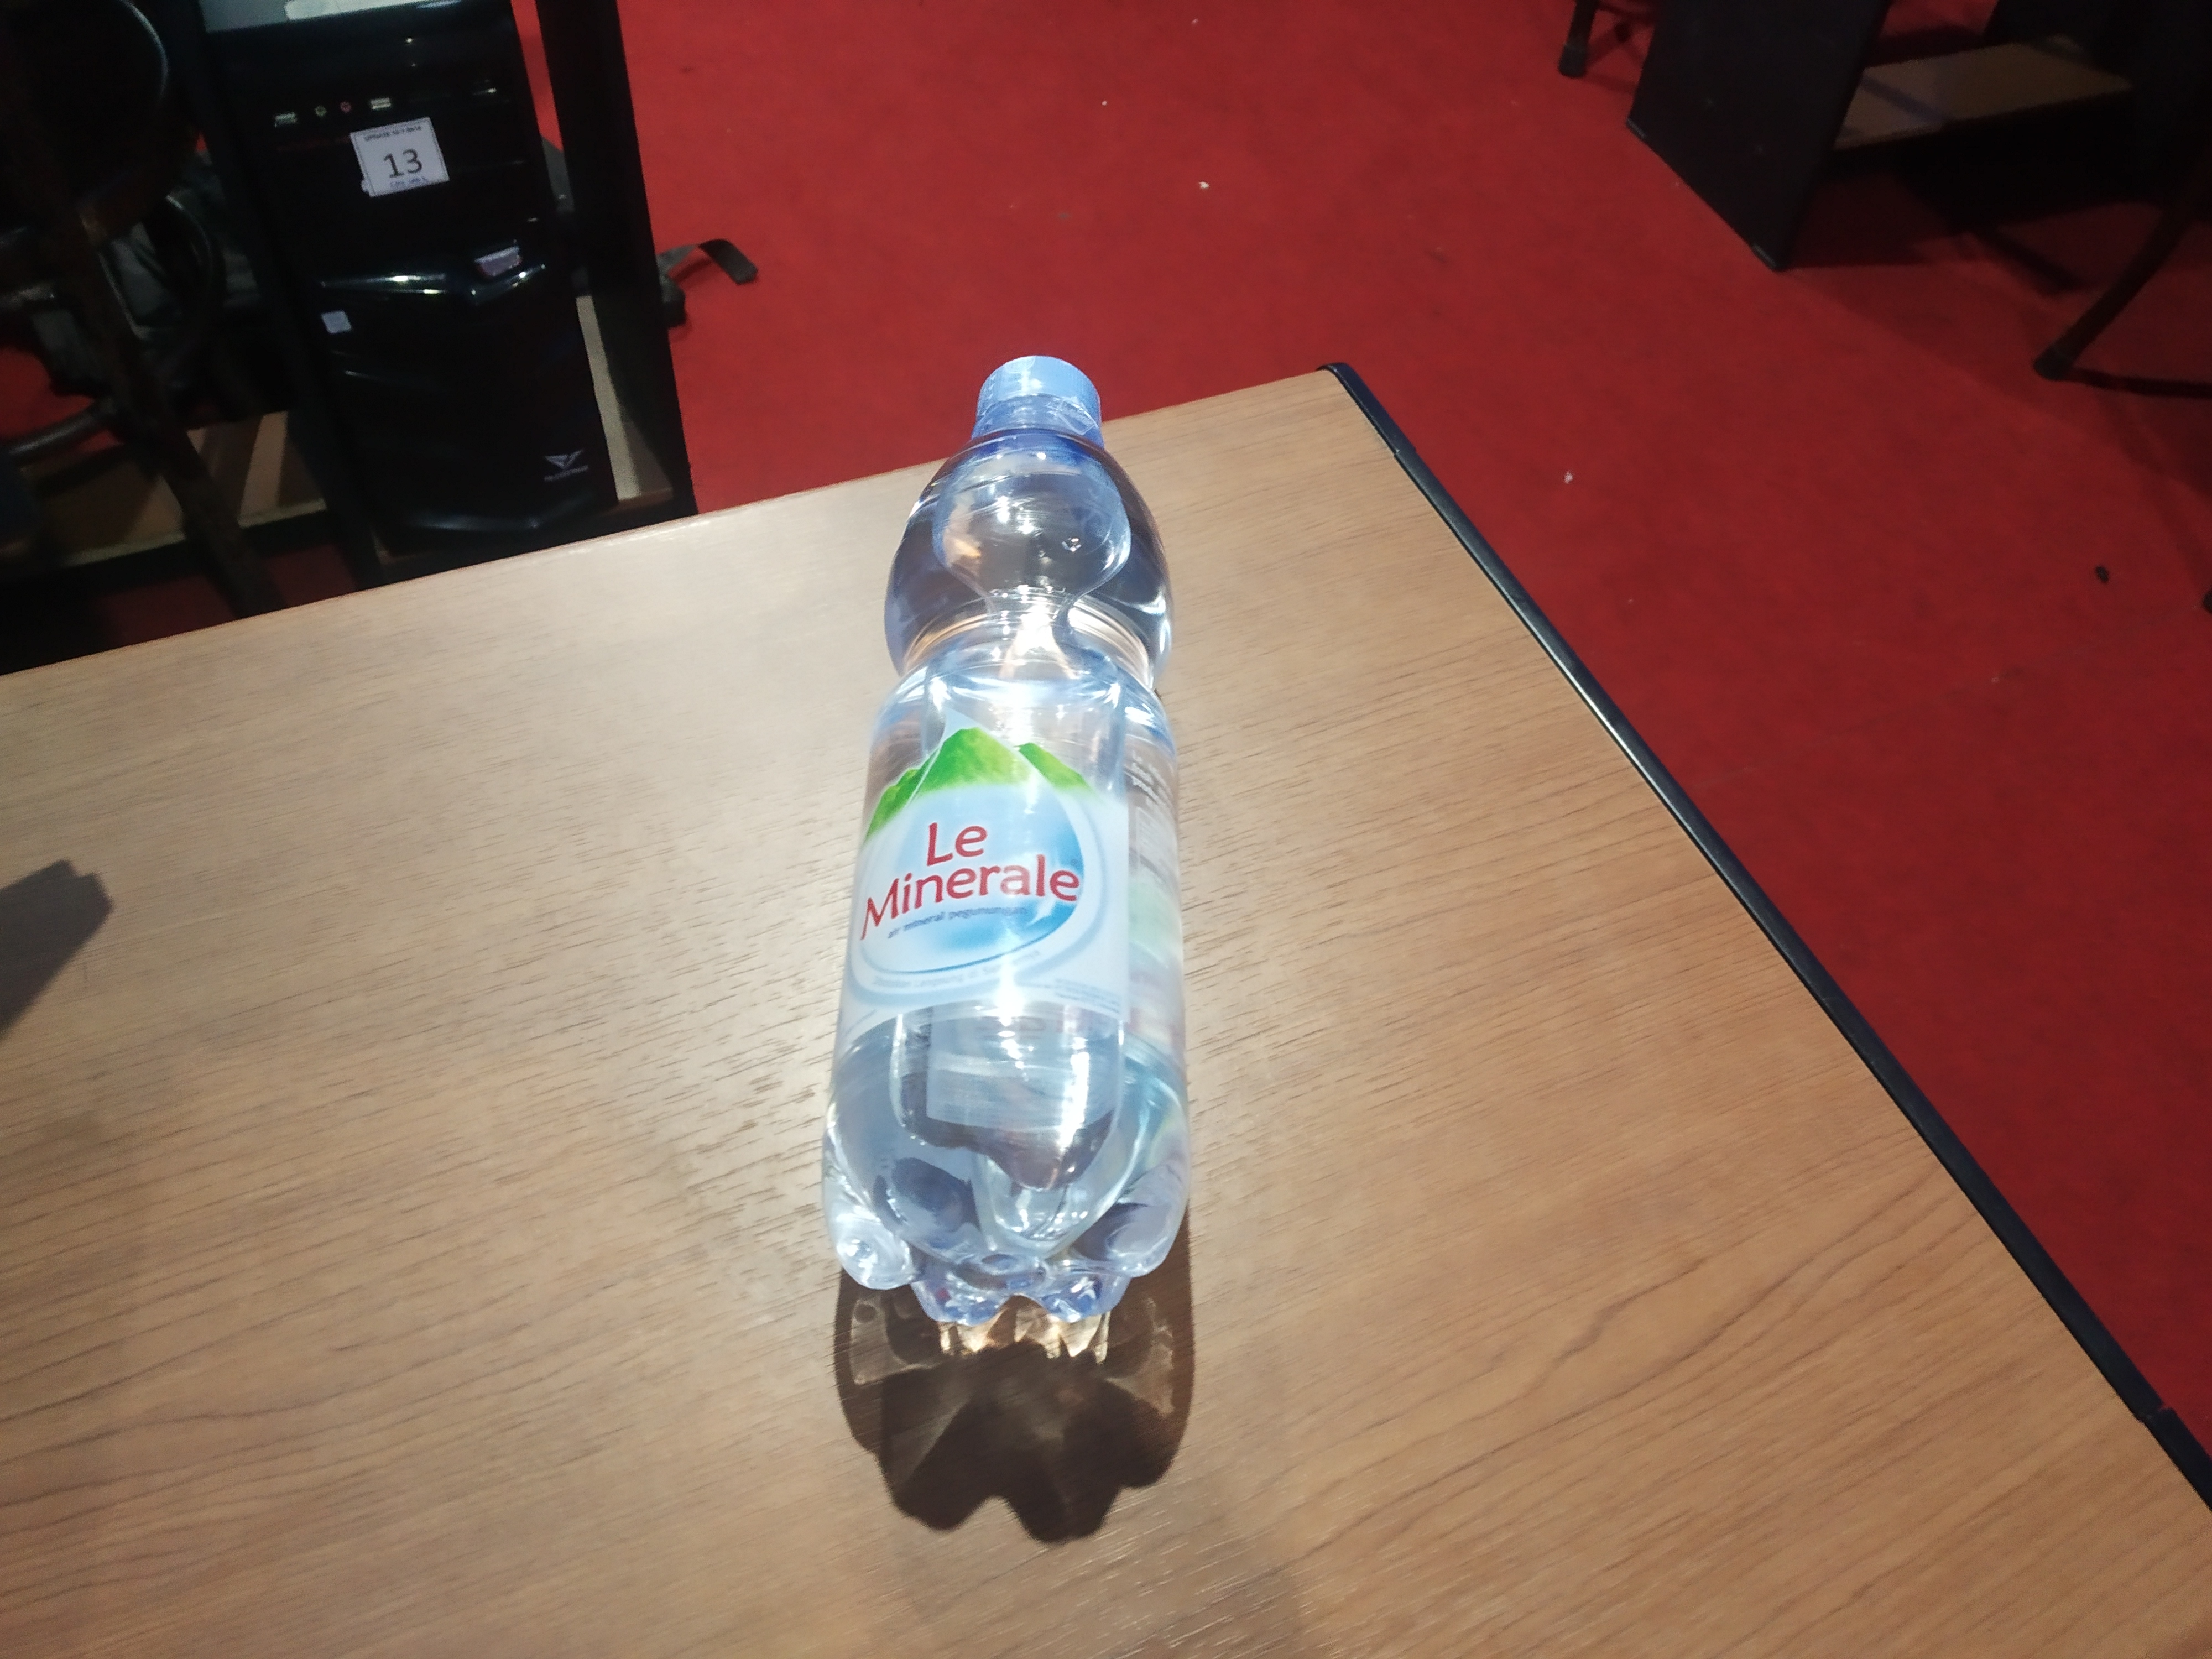botol_plastik: (786, 303, 1235, 1382)
